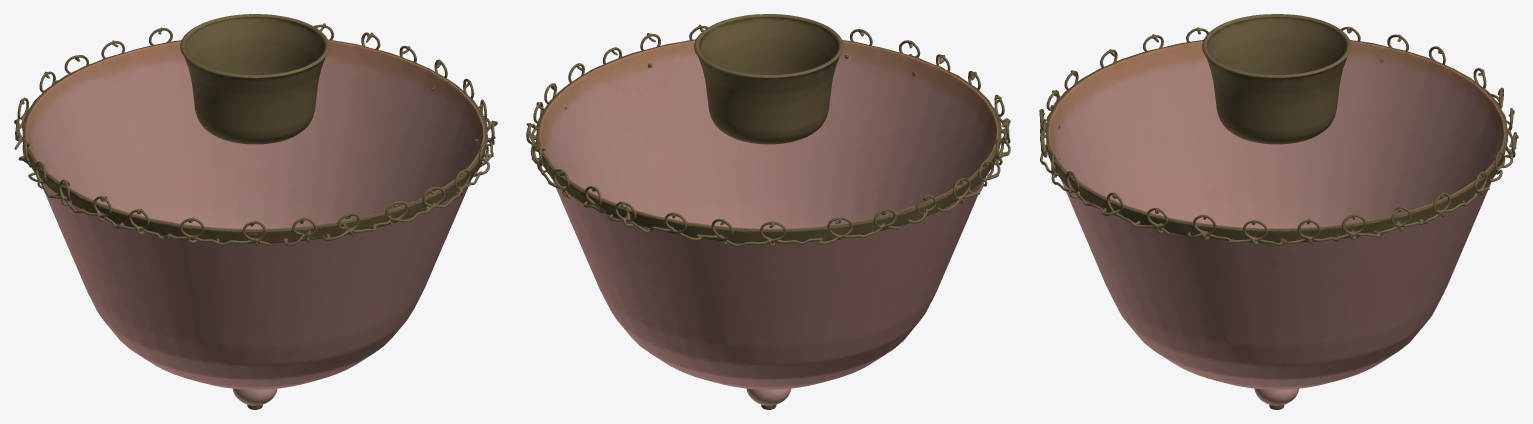
Rendered from Miscellaneous [ono_-u].glb.
3 views of the same model, side by side, from view 1: azimuth 30°, elevation 25°; view 2: azimuth 150°, elevation 25°; view 3: azimuth 270°, elevation 25° (orthographic).
Visible parts, largest first — view 1: world; view 2: world; view 3: world.
Part boxes in pixels (<box>): world: <box>14,14,497,409</box>; world: <box>526,14,1010,409</box>; world: <box>1039,14,1518,409</box>.
Bounding box in the file's own units: 0.9887 × 0.8275 × 0.9905.
1 material, 1 textured.
